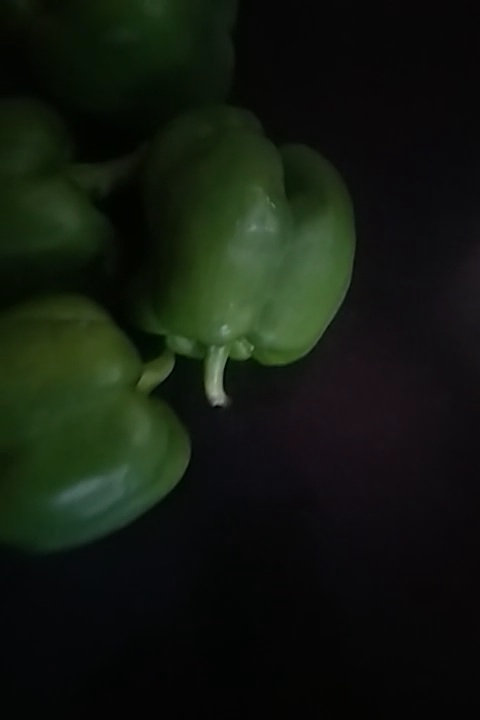capsicum: (119, 122, 352, 393), (1, 283, 191, 569), (13, 1, 252, 139), (1, 84, 124, 306)
